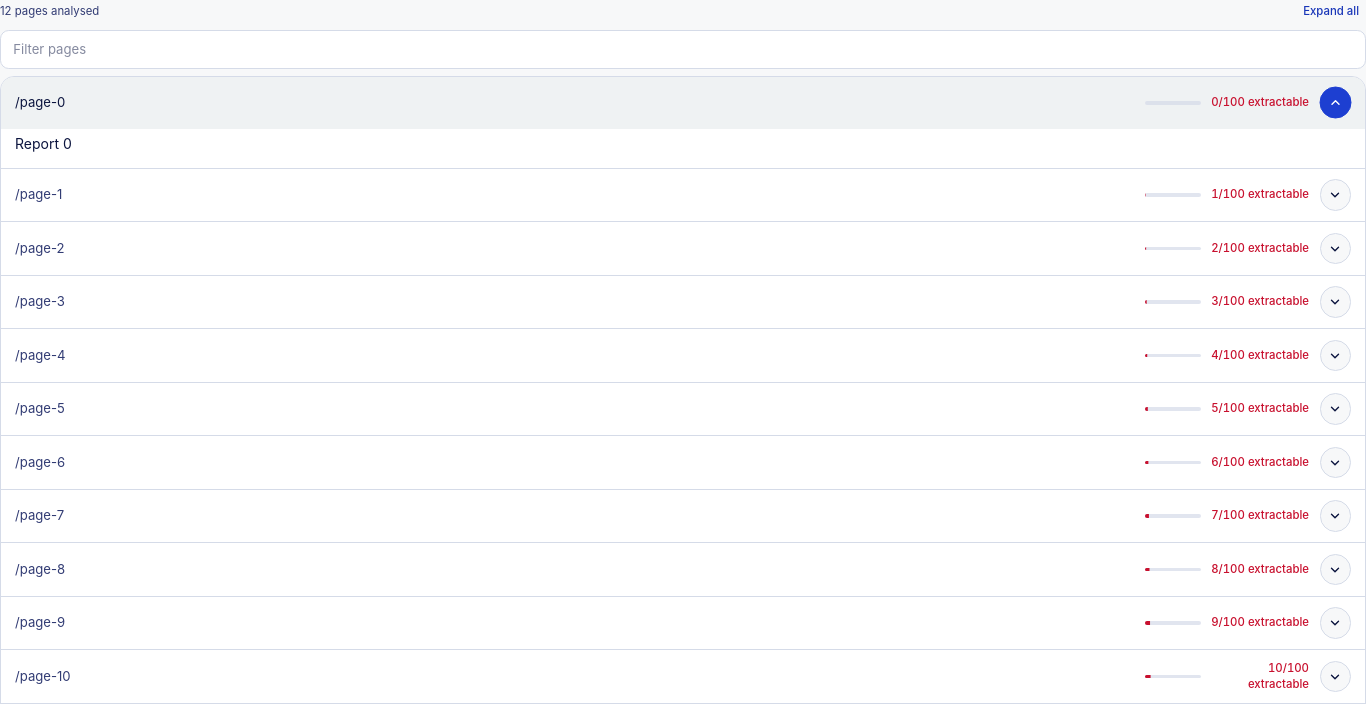
Test: PageSections when printing › prints the whole report even with a filter typed
In the field labelled "Filter pages": (683, 49) [0,30,1365,69], type "page-11"
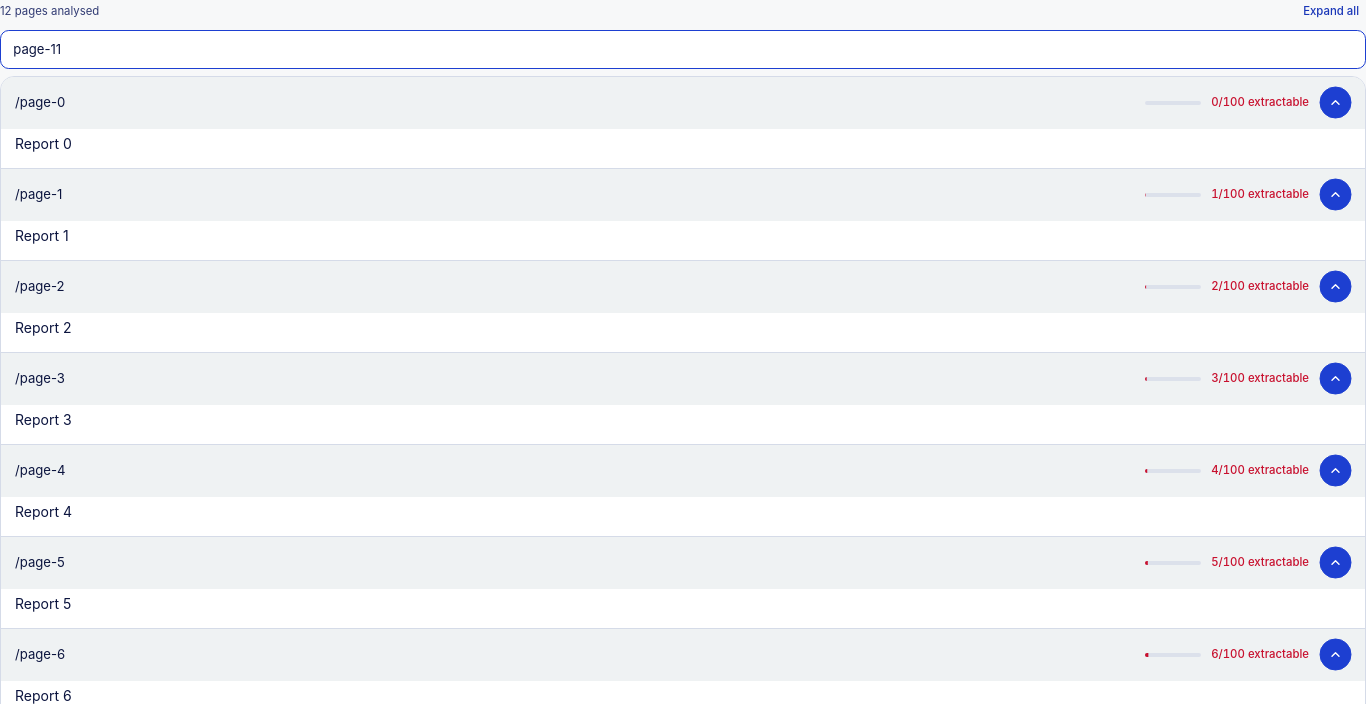
Expected: the text "/page-3" is shown, [15,370,65,386]
Expected: the text "Report 3" is shown, [15,411,72,428]
